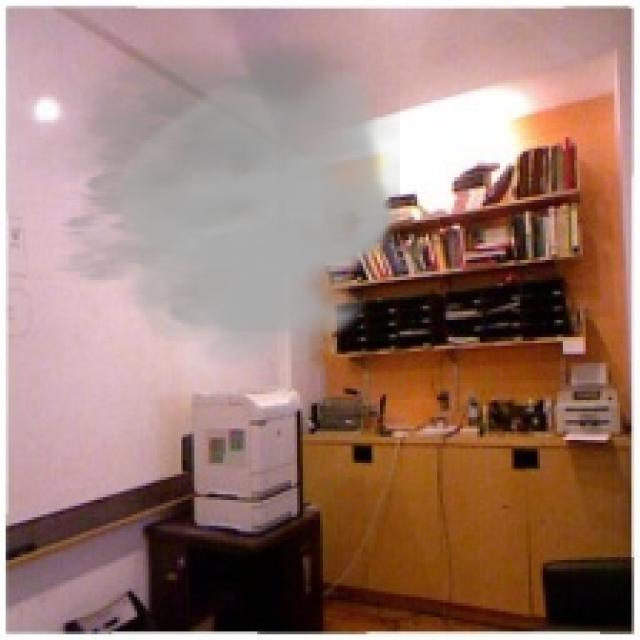smoke: (17, 26, 400, 368)
